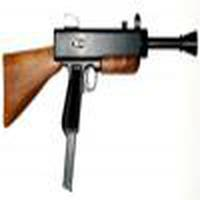gun: (1, 25, 200, 134)
